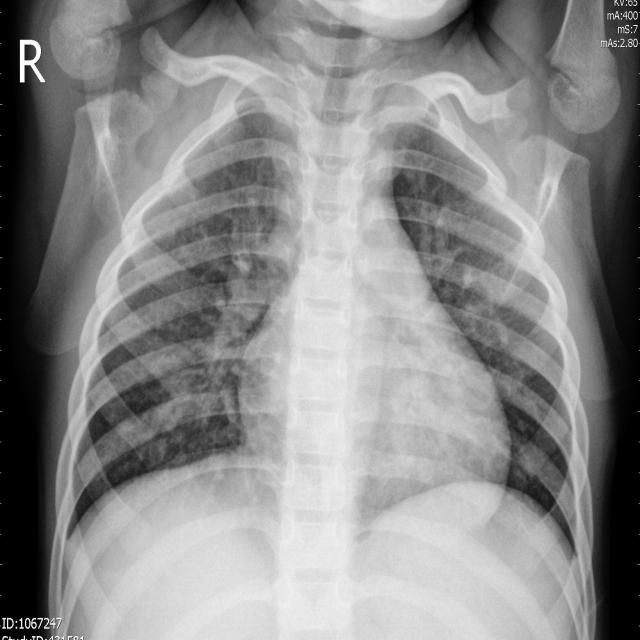low-pneumonia: (180, 123, 313, 435), (430, 196, 549, 348)
